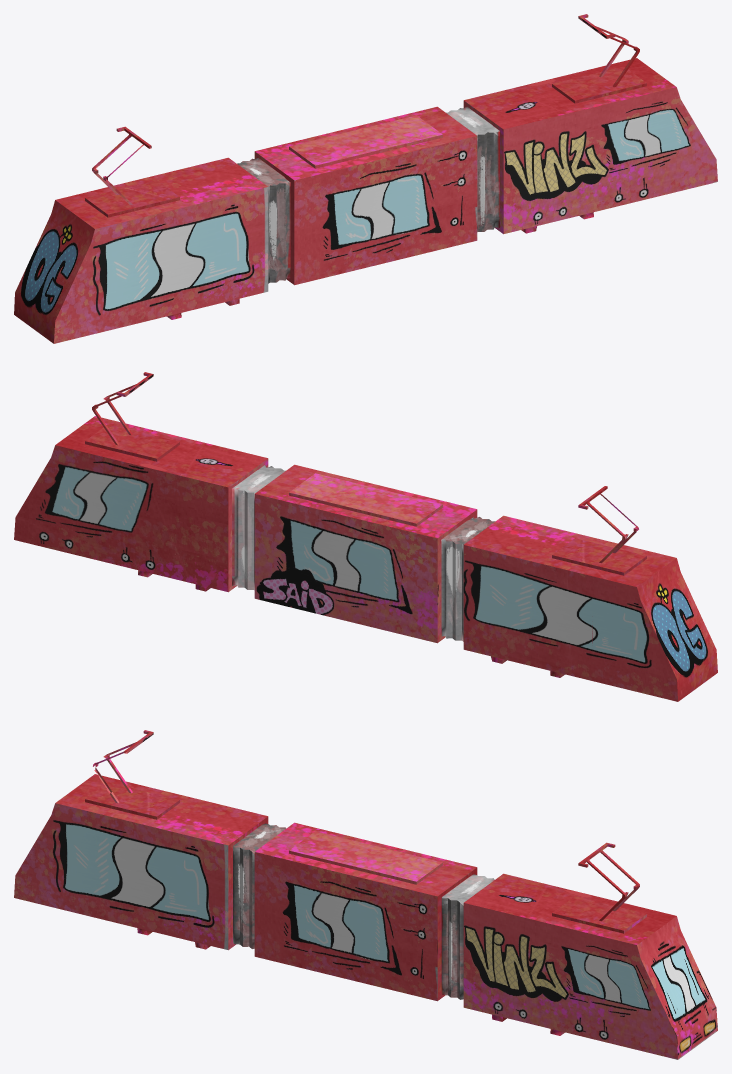
The model's file is train.fbx.
3 views of the same model, one above another, from view 1: azimuth 30°, elevation 25°; view 2: azimuth 150°, elevation 25°; view 3: azimuth 330°, elevation 25° (orthographic).
Parts seen in each view (by area): view 1: Train; view 2: Train; view 3: Train.
Boxes of the visible parts, x1,y1,x2,y2 form: Train: (14,14,717,343); Train: (14,372,717,701); Train: (14,730,717,1059).
Bounding box in the file's own units: 6946 × 1744 × 724.
Materials: 1 (1 with a texture image).
